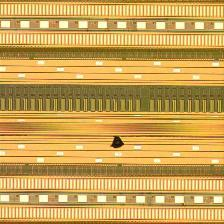PARTICLE: (109, 135, 127, 152)
